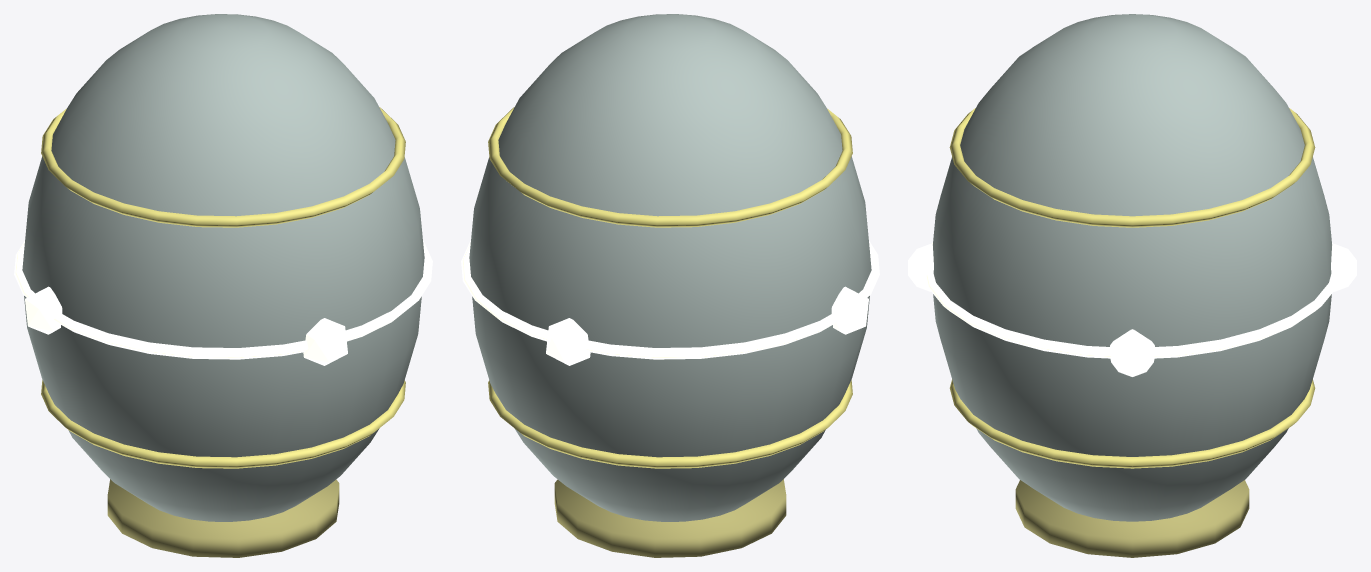
File: egg_storm_05.glb
3 views of the same model, side by side, from view 1: azimuth 30°, elevation 25°; view 2: azimuth 150°, elevation 25°; view 3: azimuth 270°, elevation 25° (orthographic).
Visible parts, largest first — view 1: ball; view 2: ball; view 3: ball.
Boxes of the visible parts, x1,y1,x2,y2 form: ball: (14,14,432,557); ball: (461,14,879,557); ball: (908,14,1356,557).
Size of the model in its own units: 0.8494 by 1 by 0.8451.
